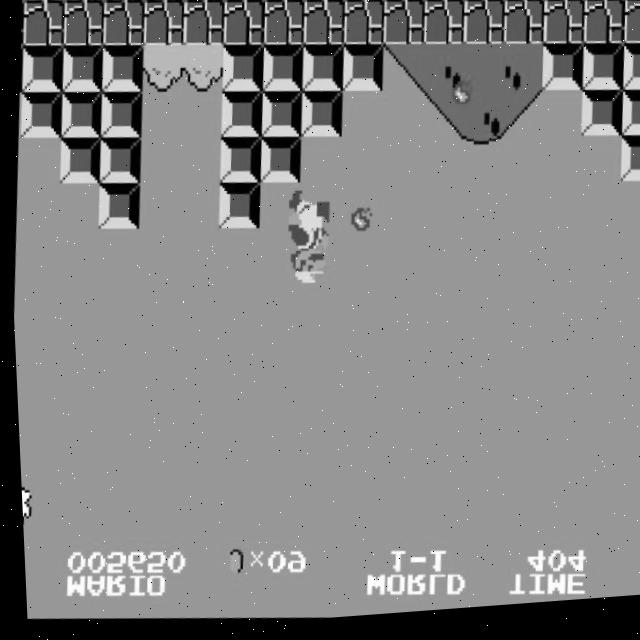17- undestructible_block: (300, 0, 346, 52), (380, 1, 426, 53), (540, 3, 586, 55), (180, 0, 226, 51), (340, 1, 386, 52), (500, 3, 546, 54), (580, 4, 626, 55), (421, 2, 466, 54), (461, 2, 506, 54), (100, 0, 146, 50), (140, 0, 186, 50), (221, 0, 266, 51), (261, 0, 306, 51), (21, 0, 66, 49), (61, 0, 106, 49), (622, 6, 640, 55), (583, 0, 627, 10), (502, 0, 546, 9), (543, 0, 586, 9), (423, 0, 467, 8), (462, 0, 506, 8), (383, 0, 427, 7), (343, 0, 386, 7), (19, 0, 25, 46), (262, 0, 306, 6), (302, 0, 346, 6), (223, 0, 267, 5), (143, 0, 186, 5), (183, 0, 227, 4), (103, 0, 146, 4), (624, 0, 640, 10), (63, 0, 106, 3)
4- fire_mario: (278, 192, 330, 292)
5- fireball: (347, 212, 370, 240), (449, 87, 472, 115)
9- hard_block: (57, 89, 103, 141), (94, 181, 140, 233), (97, 90, 143, 142), (99, 44, 145, 96), (217, 91, 263, 143), (539, 49, 585, 101), (17, 89, 63, 140), (55, 136, 101, 187), (214, 183, 260, 234), (255, 138, 301, 189), (257, 92, 303, 143), (297, 92, 343, 143), (299, 47, 345, 98), (339, 47, 385, 98), (577, 96, 623, 147), (579, 50, 625, 101), (19, 43, 64, 95), (259, 46, 304, 98), (216, 138, 262, 188), (59, 44, 104, 95), (96, 136, 141, 187), (219, 46, 264, 97), (616, 144, 640, 192), (618, 97, 640, 146), (619, 52, 640, 101), (17, 46, 23, 93)
